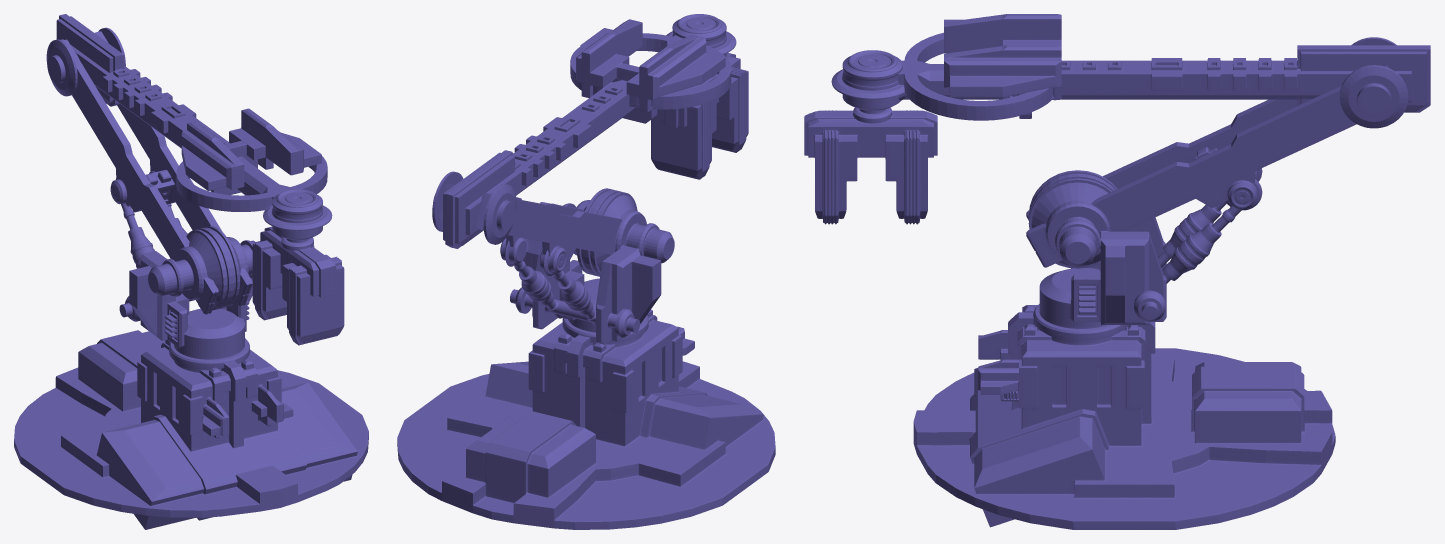
File: robot_arm.fbx
The picture shows the model from 3 angles, left to right: view 1: azimuth 30°, elevation 25°; view 2: azimuth 150°, elevation 25°; view 3: azimuth 270°, elevation 25°; orthographic projection. The views are drawn at different scales.
Visible parts, largest first — view 1: Merged_PM3D_Cylinder3D3_1; view 2: Merged_PM3D_Cylinder3D3_1; view 3: Merged_PM3D_Cylinder3D3_1.
Boxes of the visible parts, box(x1,y1,x2,y2) form: Merged_PM3D_Cylinder3D3_1: box(14, 14, 368, 529); Merged_PM3D_Cylinder3D3_1: box(397, 14, 775, 529); Merged_PM3D_Cylinder3D3_1: box(804, 14, 1430, 529).
Size of the model in its own units: 271 by 322 by 415.
